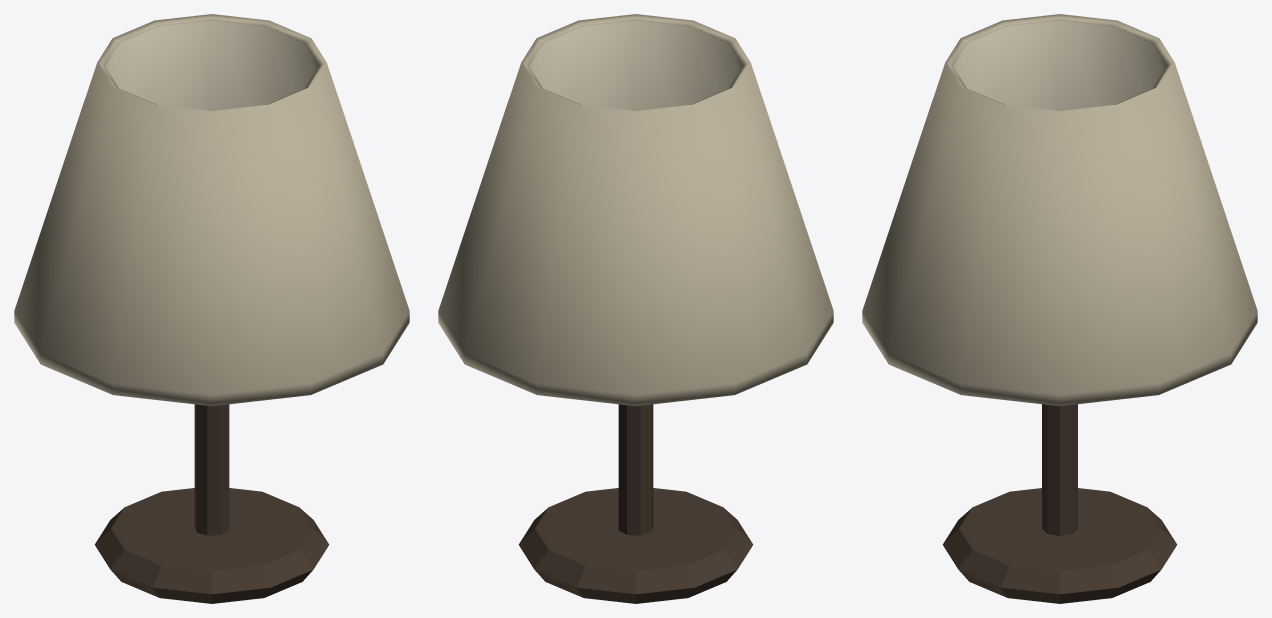
File: Motel_TableLamp.fbx
3 renders of one model, left to right at view 1: azimuth 30°, elevation 25°; view 2: azimuth 150°, elevation 25°; view 3: azimuth 270°, elevation 25°, orthographic.
Visible parts, largest first — view 1: Motel_TableLamp; view 2: Motel_TableLamp; view 3: Motel_TableLamp.
Part boxes in pixels (left/top/right/bottom): Motel_TableLamp: left=14, top=14, right=409, bottom=603; Motel_TableLamp: left=438, top=14, right=833, bottom=603; Motel_TableLamp: left=862, top=14, right=1257, bottom=603.
Bounding box in the file's own units: 0.31 × 0.43 × 0.31.
